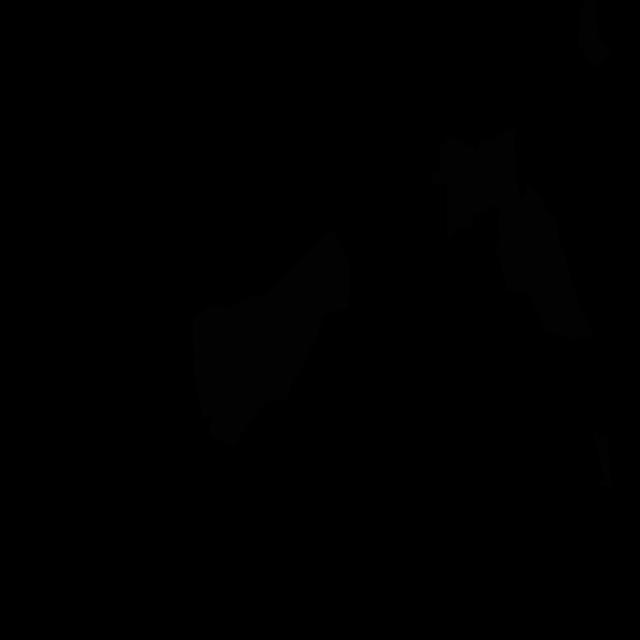cardboard: (432, 124, 594, 339), (192, 230, 350, 447), (592, 432, 613, 487)
